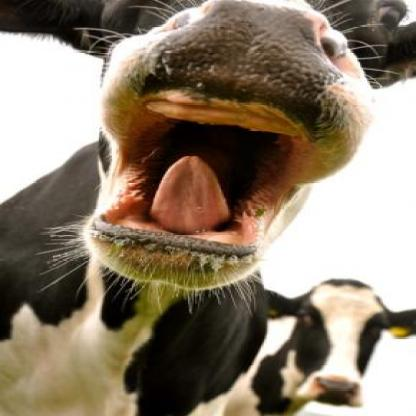lower: (153, 245, 181, 268)
mouth: (96, 1, 367, 285)
upper: (223, 35, 252, 61)
